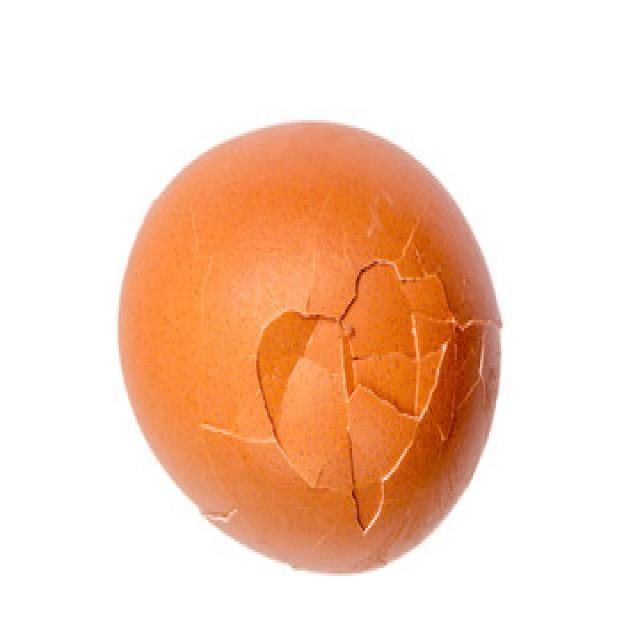biodegradable: (116, 111, 508, 580)
